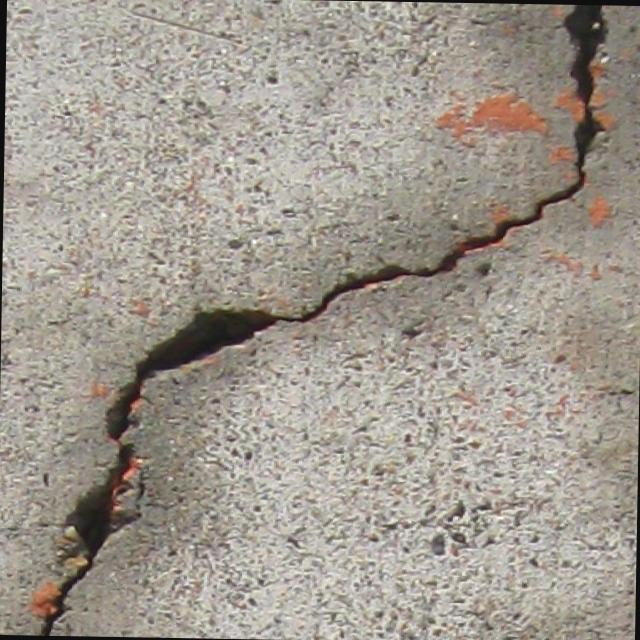crack: (398, 2, 608, 286), (99, 256, 399, 446), (32, 438, 144, 636)
